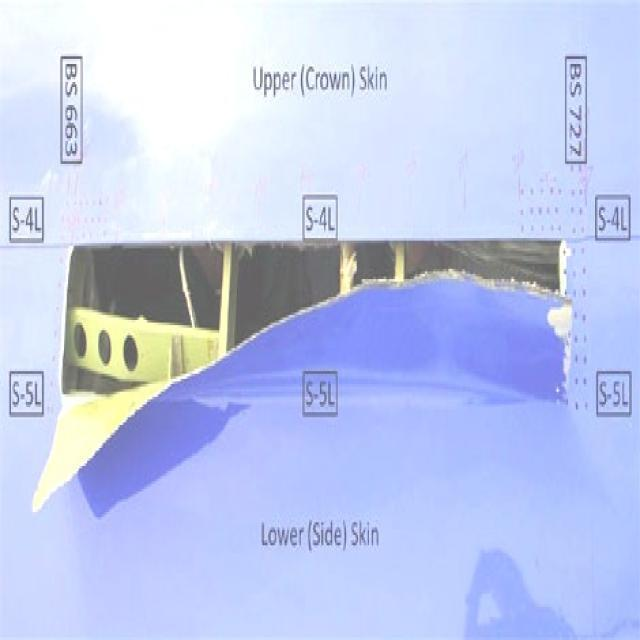crack: (34, 236, 569, 515)
